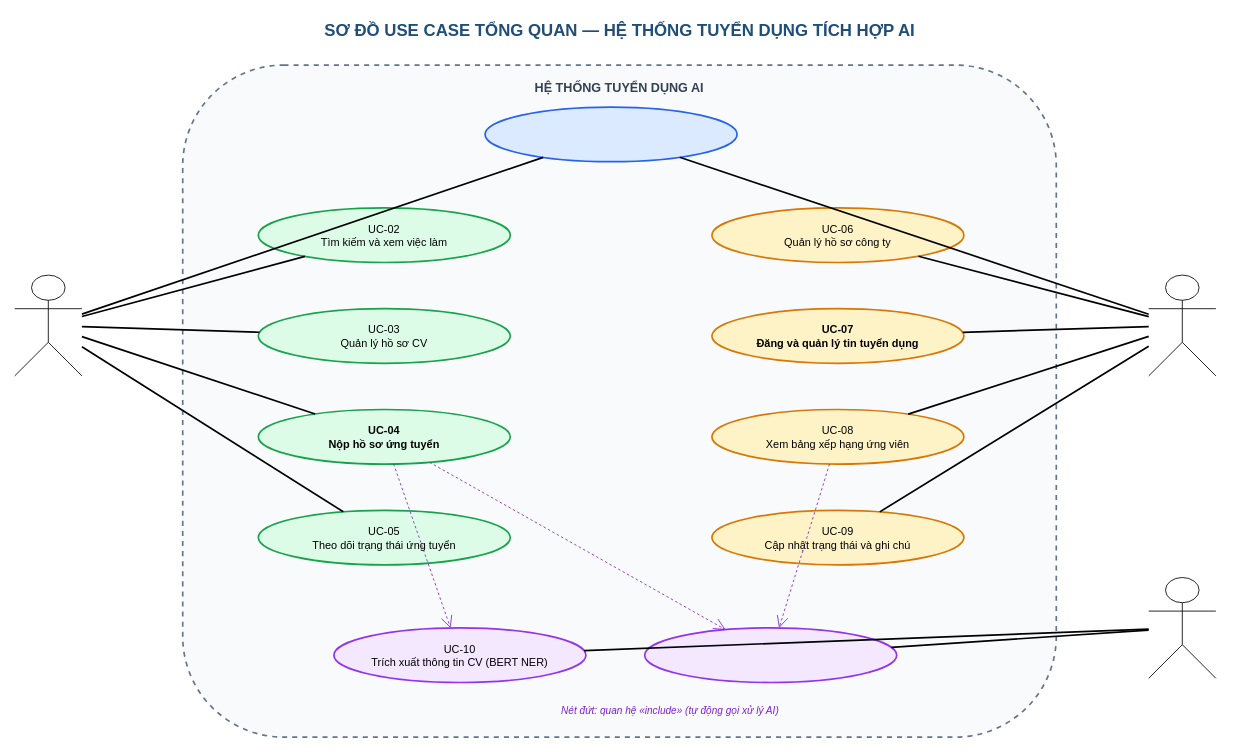
The diagram is 1259 pixels wide and 752 high, and some of its shapes have lost their labels. The centre of each missing label's shape, as x and y in pixels:
Dịch vụ AI: (1182,627)
Nhà tuyển dụng (HR): (1182,325)
UC-01 Đăng ký / Đăng nhập: (611,134)
UC-11 Chấm điểm phù hợp CV–JD: (770,655)
Ứng viên: (48,325)
